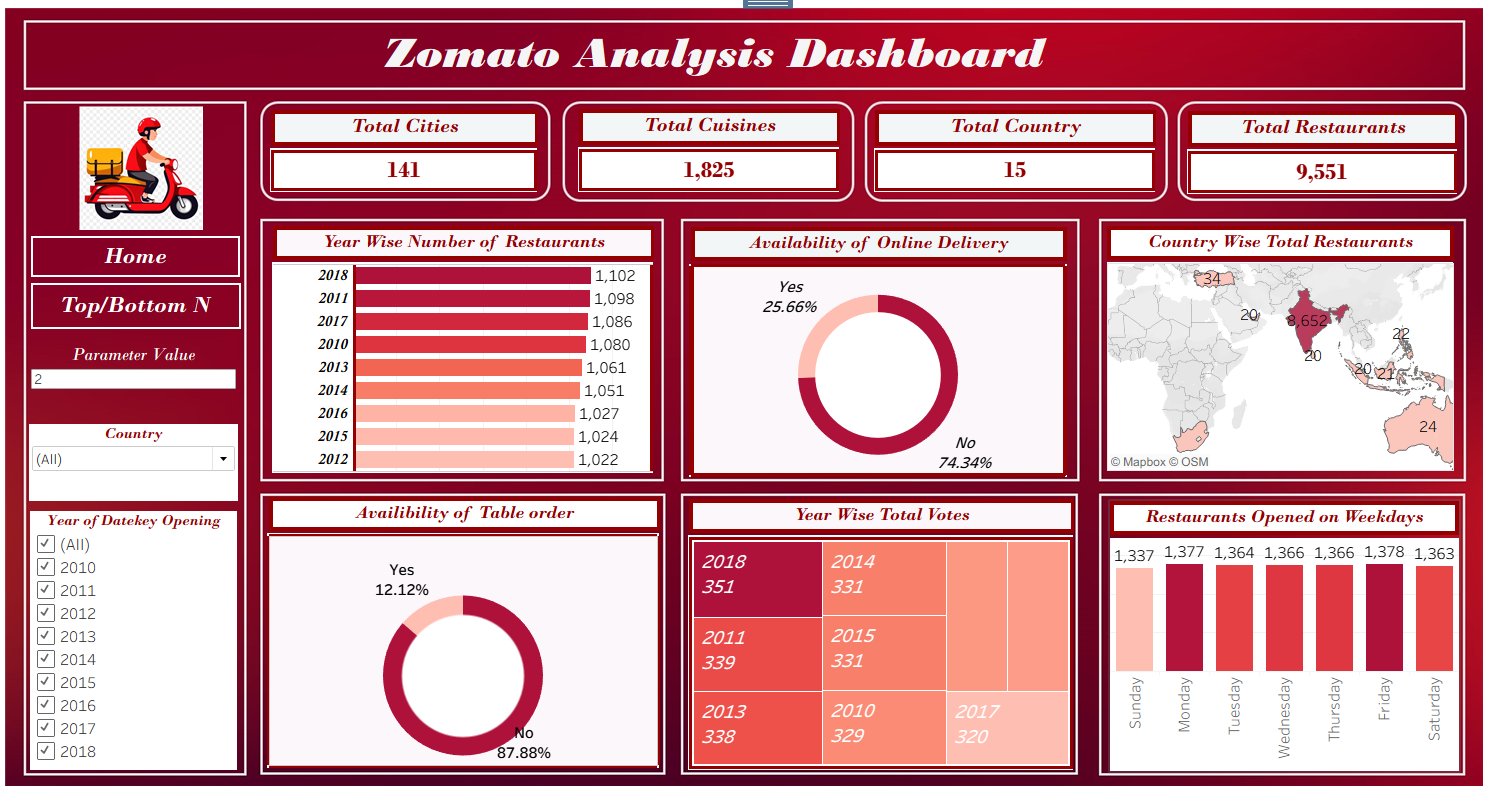

What the dashboard file says about the page in this screenshot:
{"tool":"tableau","page":{"name":"Dashboard","canvas":[1000,1000],"units":"permille","ordinal":0},"visuals":[{"type":"image","param":"Image/Slide1.jpg","box":[5.2,10,989.7,980]},{"type":"text","box":[249.7,38.6,498.7,66.1]},{"type":"worksheet","title":"Sheet 15","mark":"Automatic","box":[717.4,66.1,7.1,17.5]},{"type":"image","param":"Image/cHJpdmF0ZS9sci9pbWFnZXMvd2Vic2l0ZS8yMDIzLTExL3Jhd3BpeGVsX29mZmljZV8yNV9zdG","box":[27.1,137.2,137.4,154.6]},{"type":"worksheet","title":"Total cuisines","mark":"Automatic","box":[377.4,140.9,169,103.5]},{"type":"worksheet","title":"Total Cities","mark":"Automatic","box":[178.7,142.1,172.9,102.2]},{"type":"worksheet","title":"Total country","mark":"Automatic","box":[568.4,142.1,181.9,102.2]},{"type":"worksheet","title":"Total Restaurants","mark":"Automatic","box":[770.3,143.4,174.8,103.5]},{"type":"image","param":"Image/cHJpdmF0ZS9sci9pbWFnZXMvd2Vic2l0ZS8yMDIzLTExL3Jhd3BpeGVsX29mZmljZV8yNV9zdG","box":[29.7,144.6,119.4,132.2]},{"type":"worksheet","title":"Sheet 14","mark":"Automatic","box":[689.7,275.6,12.9,210.7]},{"type":"worksheet","title":"Year wise number of restaurants","mark":"Bar","rows":["Datekey_Opening"],"cols":["RestaurantName"],"box":[180,286.8,246.5,308]},{"type":"worksheet","title":"Country wise total Restaurants","mark":"Automatic","box":[718.7,286.8,223.9,305.5]},{"type":"worksheet","title":"online delivery","mark":"Pie","rows":["Calculation_2003820418253901833","Calculation_2003820418253914123"],"box":[449,288,243.9,311.7]},{"type":"dashboard-object","box":[24.5,299.2,134.8,51.1]},{"type":"dashboard-object","box":[24.5,357.9,135.5,57.4]},{"type":"parameter","param":"[Parameters].[Parameter 1]","box":[22.6,432.7,136.1,79.8]},{"type":"filter","title":"Sheet 14","param":"[federated.1t48gqt0yr0rq714g5i7c0ca5y6u].[none:Country:nk]","box":[23.2,533.7,134.8,96]},{"type":"worksheet","title":"Table delivery","mark":"Pie","rows":["Calculation_2003820418253901833","Calculation_2003820418253914123"],"box":[176.8,624.7,253.6,337.9]},{"type":"worksheet","title":"Year wise votes","mark":"Automatic","box":[448.4,627.2,249,337.9]},{"type":"worksheet","title":"Restaurants opened On weekdays","mark":"Automatic","rows":["RestaurantName"],"cols":["Calculation_2003820418252079111"],"box":[720.6,629.7,225.2,336.7]},{"type":"filter","title":"Sheet 15","param":"[federated.1t48gqt0yr0rq714g5i7c0ca5y6u].[yr:Datekey_Opening:ok]","box":[23.9,642.1,133.6,322.9]}]}

Visuals, with their boxes on the dashboard's canvas, which has no fixed pixel size, in thousandths of its width and height (x1, y1, x2, y2). These are canvas units, not pixel positions in the 1495x793 screenshot, which may show the page scaled, cropped or inside an application window:
image: [x1=5, y1=10, x2=995, y2=990]
text: [x1=250, y1=39, x2=748, y2=105]
"Sheet 15" worksheet: [x1=717, y1=66, x2=724, y2=84]
image: [x1=27, y1=137, x2=164, y2=292]
"Total cuisines" worksheet: [x1=377, y1=141, x2=546, y2=244]
"Total Cities" worksheet: [x1=179, y1=142, x2=352, y2=244]
"Total country" worksheet: [x1=568, y1=142, x2=750, y2=244]
"Total Restaurants" worksheet: [x1=770, y1=143, x2=945, y2=247]
image: [x1=30, y1=145, x2=149, y2=277]
"Sheet 14" worksheet: [x1=690, y1=276, x2=703, y2=486]
"Year wise number of restaurants" worksheet (Bar marks): [x1=180, y1=287, x2=426, y2=595]
"Country wise total Restaurants" worksheet: [x1=719, y1=287, x2=943, y2=592]
"online delivery" worksheet (Pie marks): [x1=449, y1=288, x2=693, y2=600]
dashboard-object: [x1=24, y1=299, x2=159, y2=350]
dashboard-object: [x1=24, y1=358, x2=160, y2=415]
parameter: [x1=23, y1=433, x2=159, y2=512]
"Sheet 14" filter: [x1=23, y1=534, x2=158, y2=630]
"Table delivery" worksheet (Pie marks): [x1=177, y1=625, x2=430, y2=963]
"Year wise votes" worksheet: [x1=448, y1=627, x2=697, y2=965]
"Restaurants opened On weekdays" worksheet: [x1=721, y1=630, x2=946, y2=966]
"Sheet 15" filter: [x1=24, y1=642, x2=158, y2=965]
